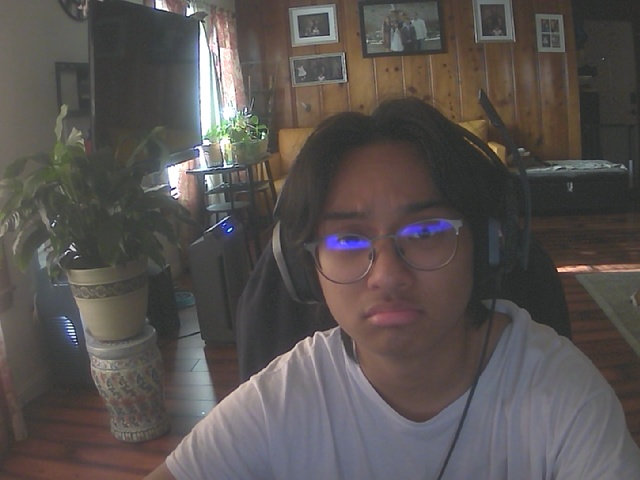sad: (303, 141, 483, 358)
